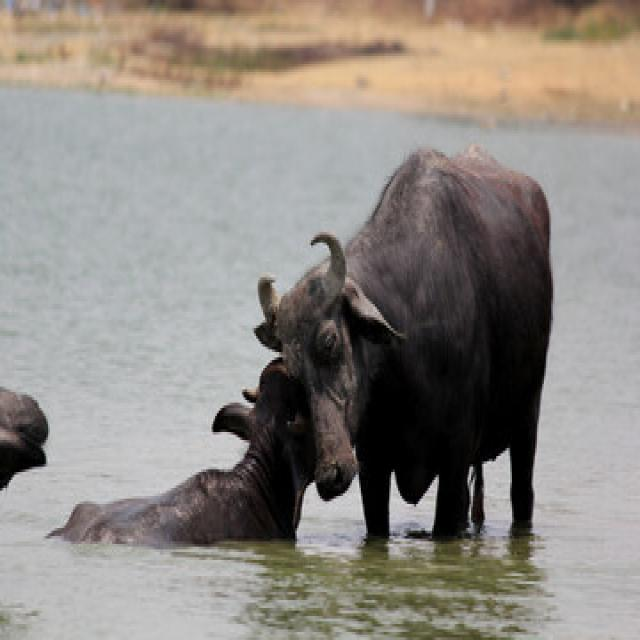Buffalo: (257, 144, 554, 549)
